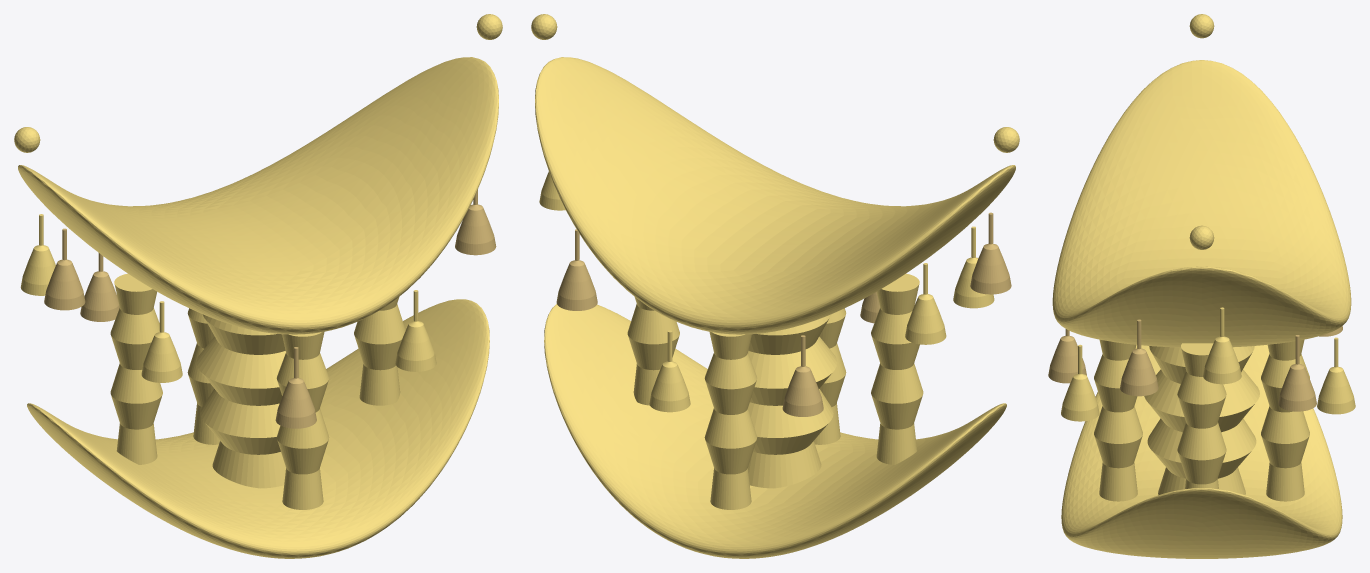
File: golden_stool.glb
The picture shows the model from 3 angles, left to right: view 1: azimuth 30°, elevation 25°; view 2: azimuth 150°, elevation 25°; view 3: azimuth 270°, elevation 25°; orthographic projection. The views are drawn at different scales.
Parts seen in each view (by area): view 1: geometry_0, geometry_1, geometry_2, geometry_4, geometry_6, geometry_3, geometry_5, geometry_18, geometry_20, geometry_22, geometry_24, geometry_26 (+2 smaller); view 2: geometry_0, geometry_1, geometry_2, geometry_5, geometry_4, geometry_3, geometry_6, geometry_18, geometry_12, geometry_16, geometry_10, geometry_14 (+1 smaller); view 3: geometry_0, geometry_1, geometry_2, geometry_6, geometry_3, geometry_5, geometry_26, geometry_8, geometry_10, geometry_12, geometry_24, geometry_22 (+2 smaller).
Boxes of the visible parts, x1,y1,x2,y2 form: geometry_0: [18, 57, 498, 334]; geometry_1: [27, 299, 489, 558]; geometry_2: [196, 314, 285, 488]; geometry_4: [110, 273, 162, 464]; geometry_6: [276, 331, 329, 509]; geometry_3: [354, 297, 405, 405]; geometry_5: [187, 308, 219, 444]; geometry_18: [44, 259, 85, 310]; geometry_20: [141, 332, 182, 382]; geometry_22: [275, 378, 316, 428]; geometry_24: [395, 321, 436, 371]; geometry_26: [455, 204, 496, 255]; geometry_0: [535, 57, 1015, 334]; geometry_1: [544, 304, 1006, 558]; geometry_2: [748, 314, 837, 488]; geometry_5: [704, 331, 757, 509]; geometry_4: [871, 273, 923, 464]; geometry_3: [627, 297, 679, 405]; geometry_6: [814, 308, 846, 444]; geometry_18: [970, 243, 1011, 294]; geometry_12: [649, 361, 690, 412]; geometry_16: [905, 294, 946, 344]; geometry_10: [556, 260, 597, 310]; geometry_14: [782, 366, 823, 416]; geometry_0: [1052, 60, 1351, 347]; geometry_1: [1061, 344, 1342, 558]; geometry_2: [1144, 346, 1259, 495]; geometry_6: [1094, 340, 1142, 501]; geometry_3: [1177, 343, 1226, 488]; geometry_5: [1261, 340, 1309, 501]; geometry_26: [1120, 348, 1158, 396]; geometry_8: [1203, 336, 1241, 384]; geometry_10: [1278, 364, 1316, 411]; geometry_12: [1317, 367, 1355, 414]; geometry_24: [1061, 374, 1099, 421]; geometry_22: [1048, 336, 1086, 383].
Size of the model in its own units: 0.598 by 0.5277 by 0.3498.
